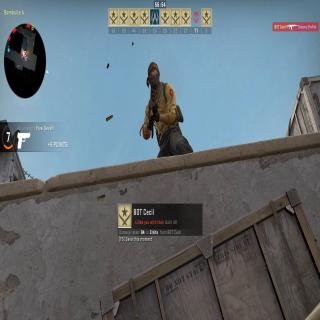T-Body: (142, 61, 193, 217)
T-Head: (146, 62, 161, 96)
